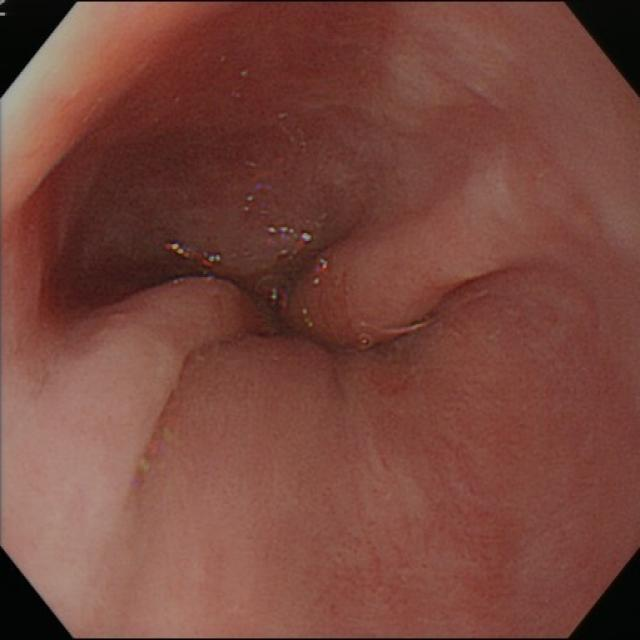I: (155, 190, 403, 394)
T: (253, 273, 298, 320), (357, 322, 376, 355)
U: (163, 238, 223, 274), (266, 222, 313, 248), (311, 258, 331, 287)
